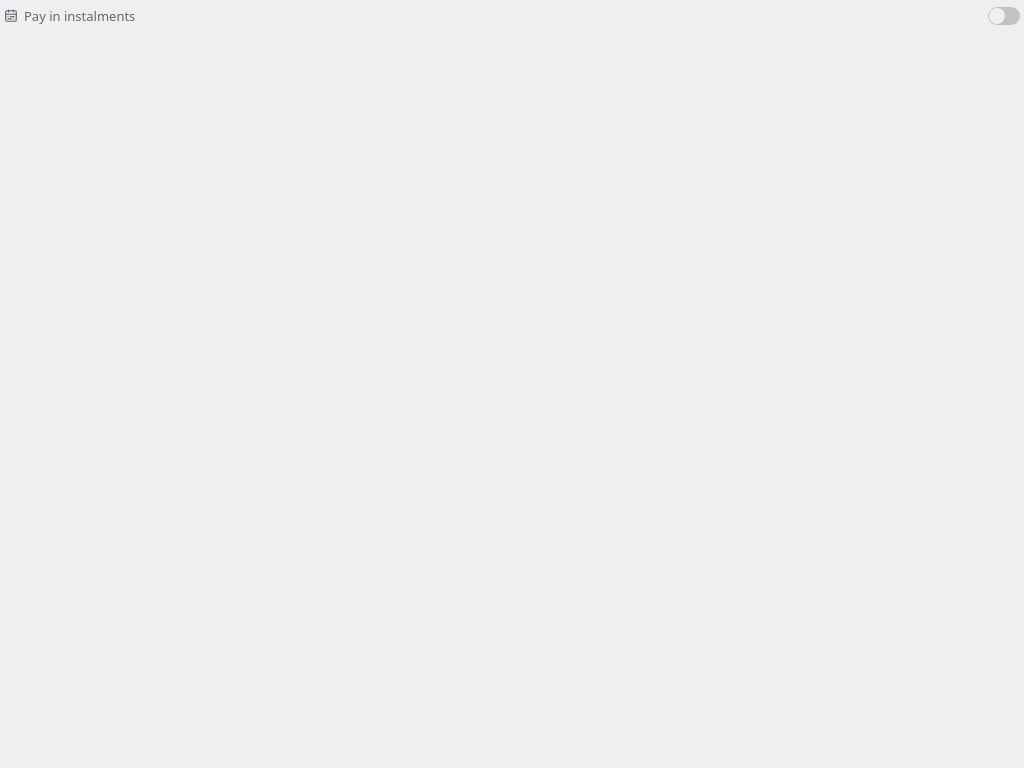
section shows the server rows until one is edited
The width and height of the screenshot is (1024, 768).
Later steps or results of the test are not shown.
Click the switch named "Pay in instalments" at coordinates (1004, 16), box [988,7,1020,25]
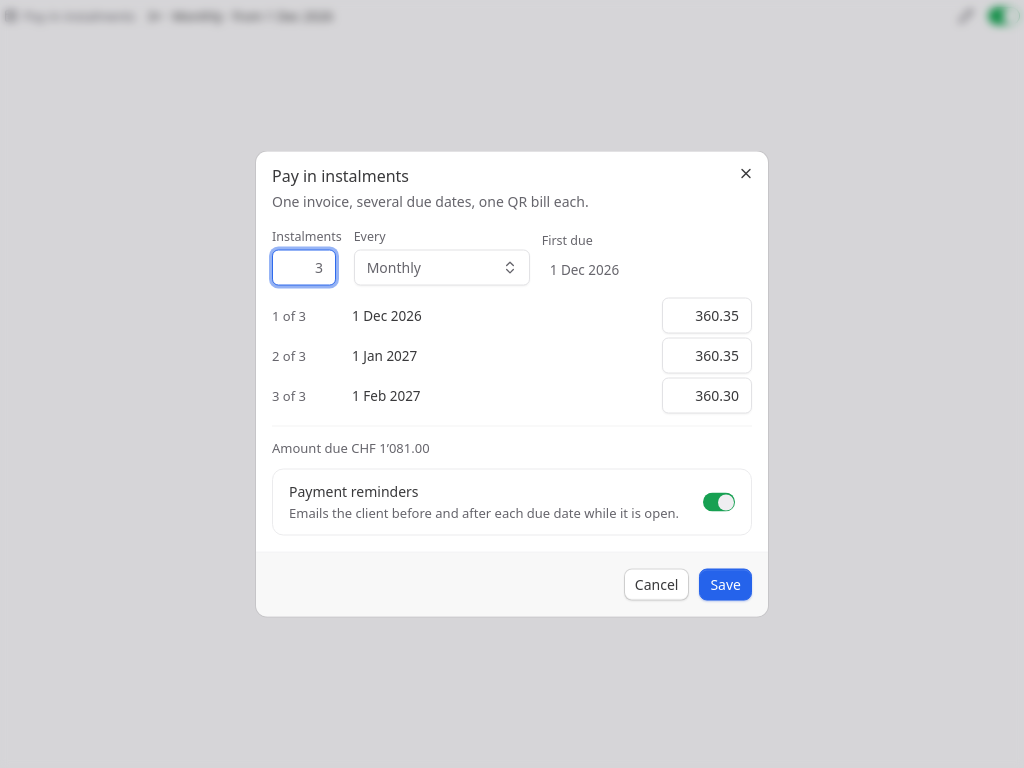
Now the field named "Number of instalments" holds "3", box [272,249,336,285]
Now the dropdown named "Interval" shows "Monthly", box [354,249,530,285]
Now the switch named "Payment reminders" is checked, box [703,493,735,511]
Clear the field named "Instalment 1 amount" at coordinates (707, 315), box [662,297,752,333]
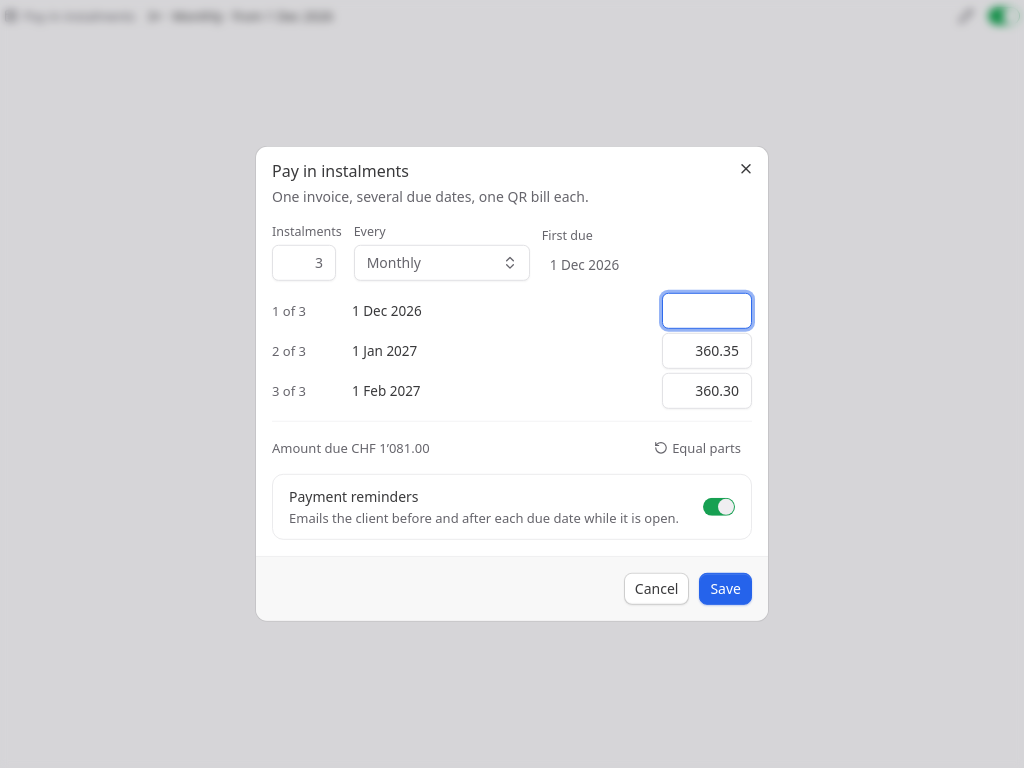
Type "400" into the field named "Instalment 1 amount" at coordinates (707, 311), box [662,293,752,329]
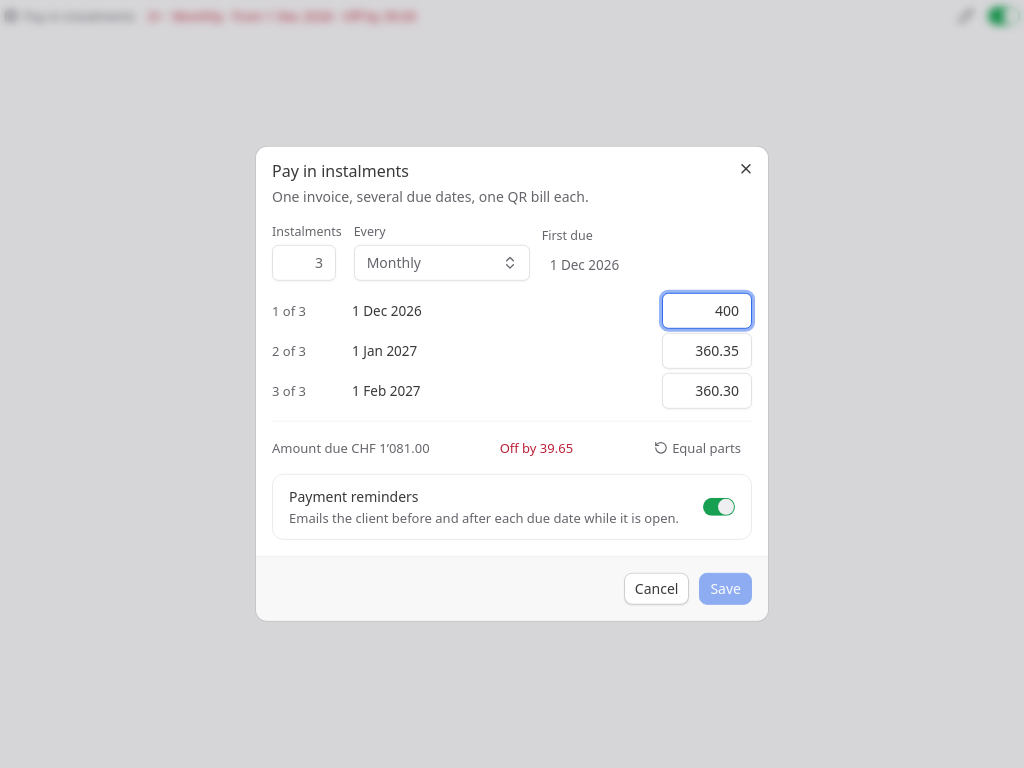
Now the text "Off by 39.65" is shown, box [500,438,573,457]
Now the button "Save" is disabled, box [699,573,752,605]
